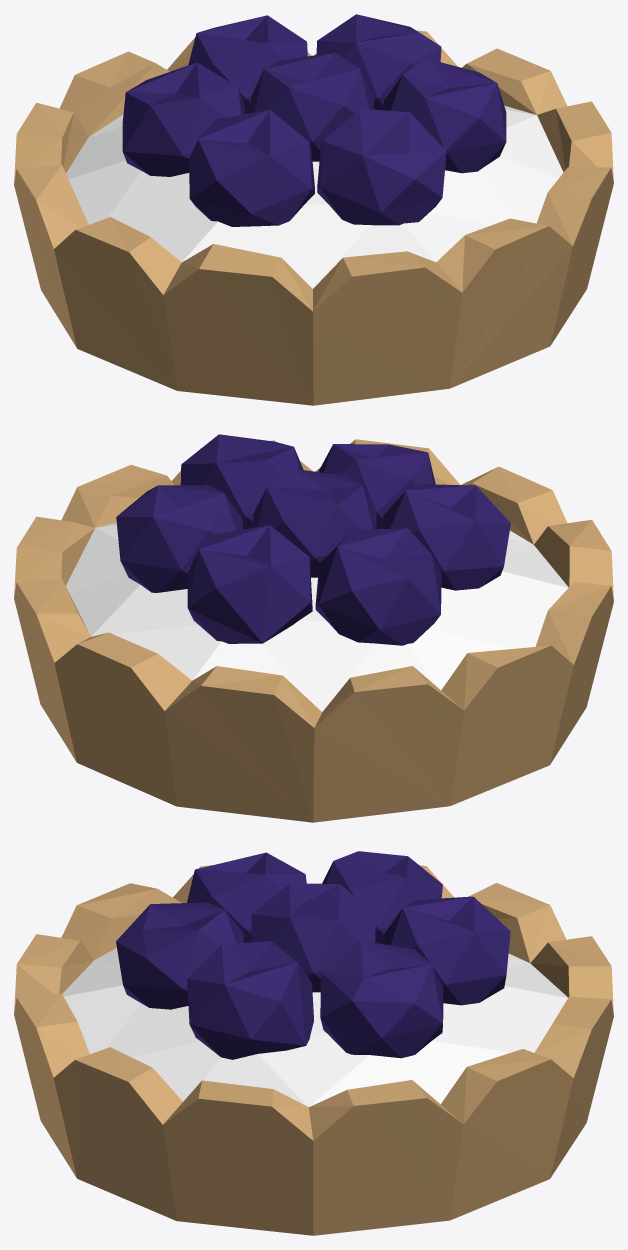
The model's file is tarte_blueberry.fbx.
3 renders of one model, top to bottom at view 1: azimuth 30°, elevation 25°; view 2: azimuth 150°, elevation 25°; view 3: azimuth 270°, elevation 25°, orthographic.
Parts seen in each view (by area): view 1: tarte_blueberry; view 2: tarte_blueberry; view 3: tarte_blueberry.
Part boxes in pixels (left/top/right/bottom): tarte_blueberry: left=14, top=14, right=613, bottom=405; tarte_blueberry: left=14, top=434, right=613, bottom=822; tarte_blueberry: left=14, top=851, right=613, bottom=1235.
Bounding box in the file's own units: 9.84 × 4.02 × 9.84.
